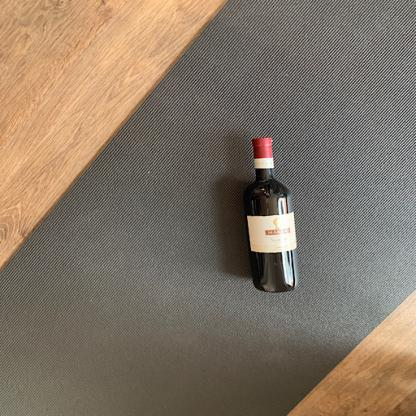trash: (240, 134, 300, 292)
